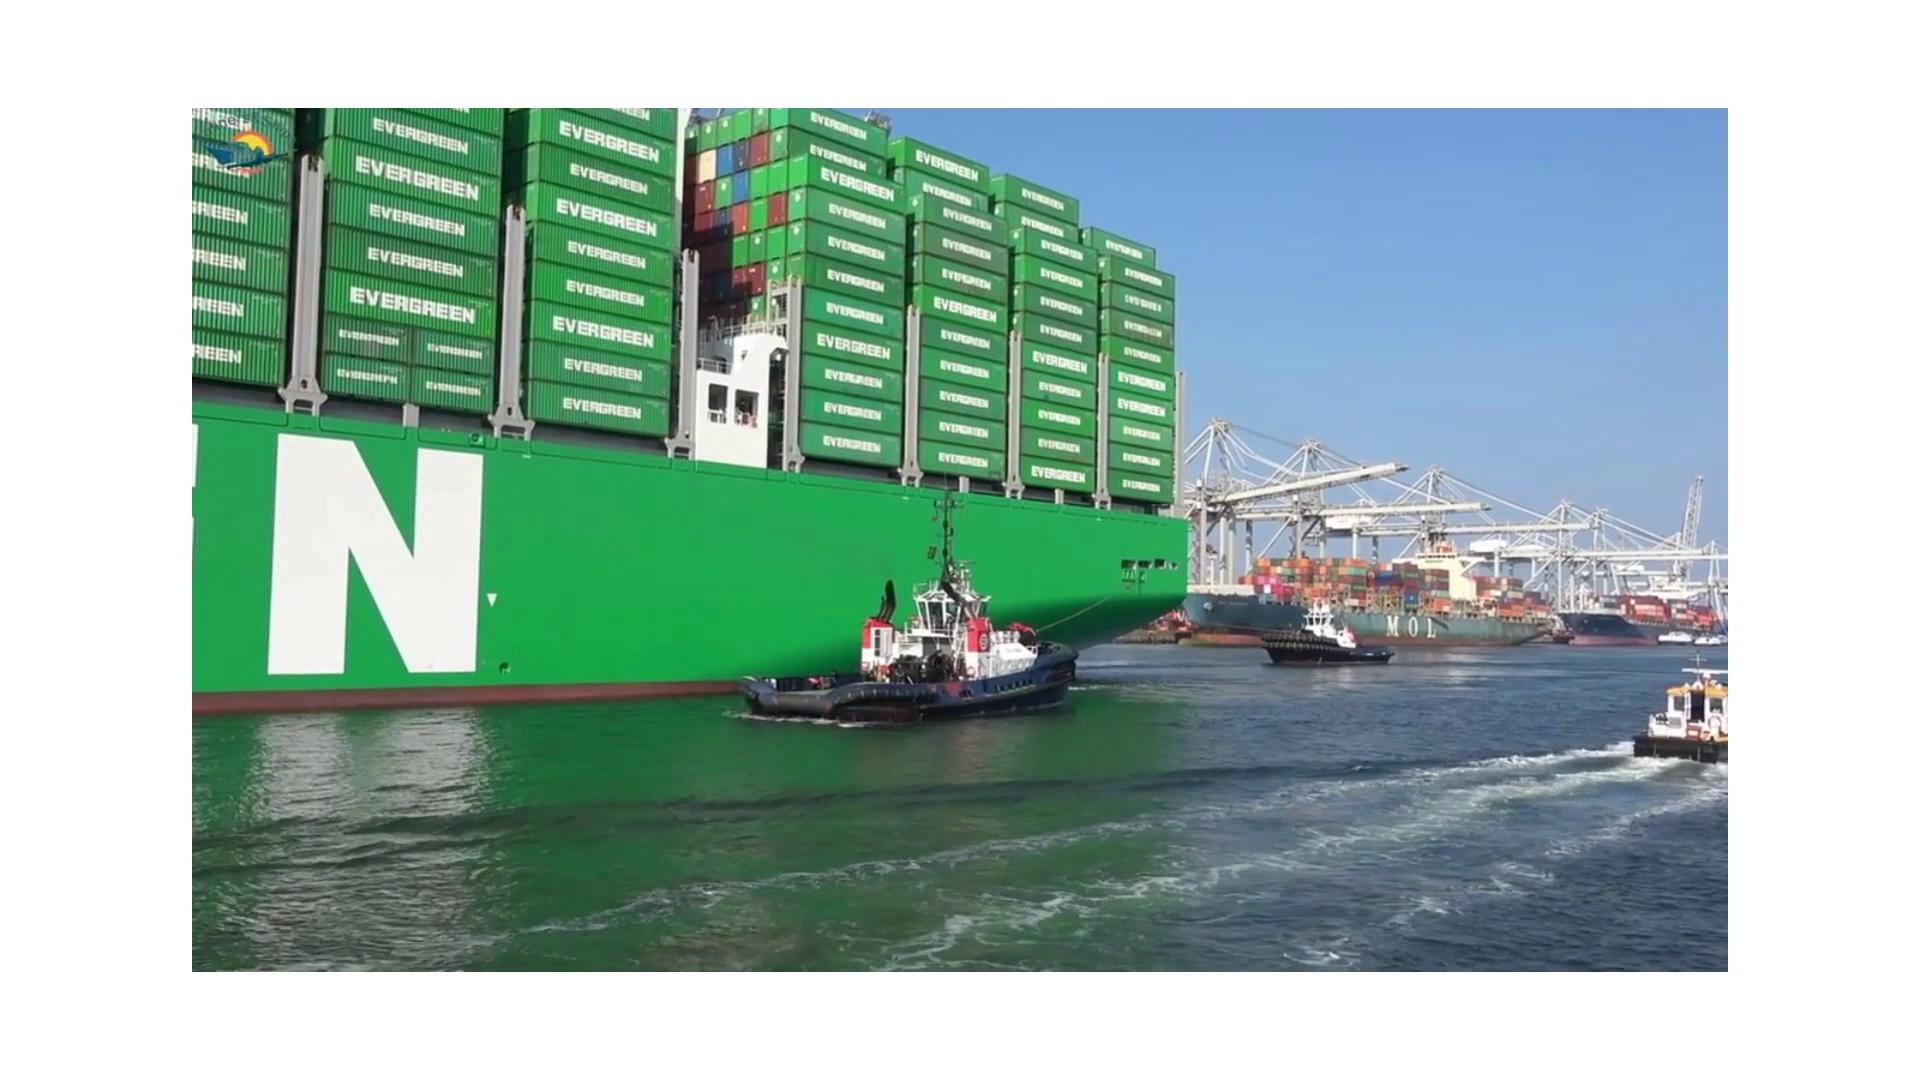OCR: (235, 411, 497, 720)
